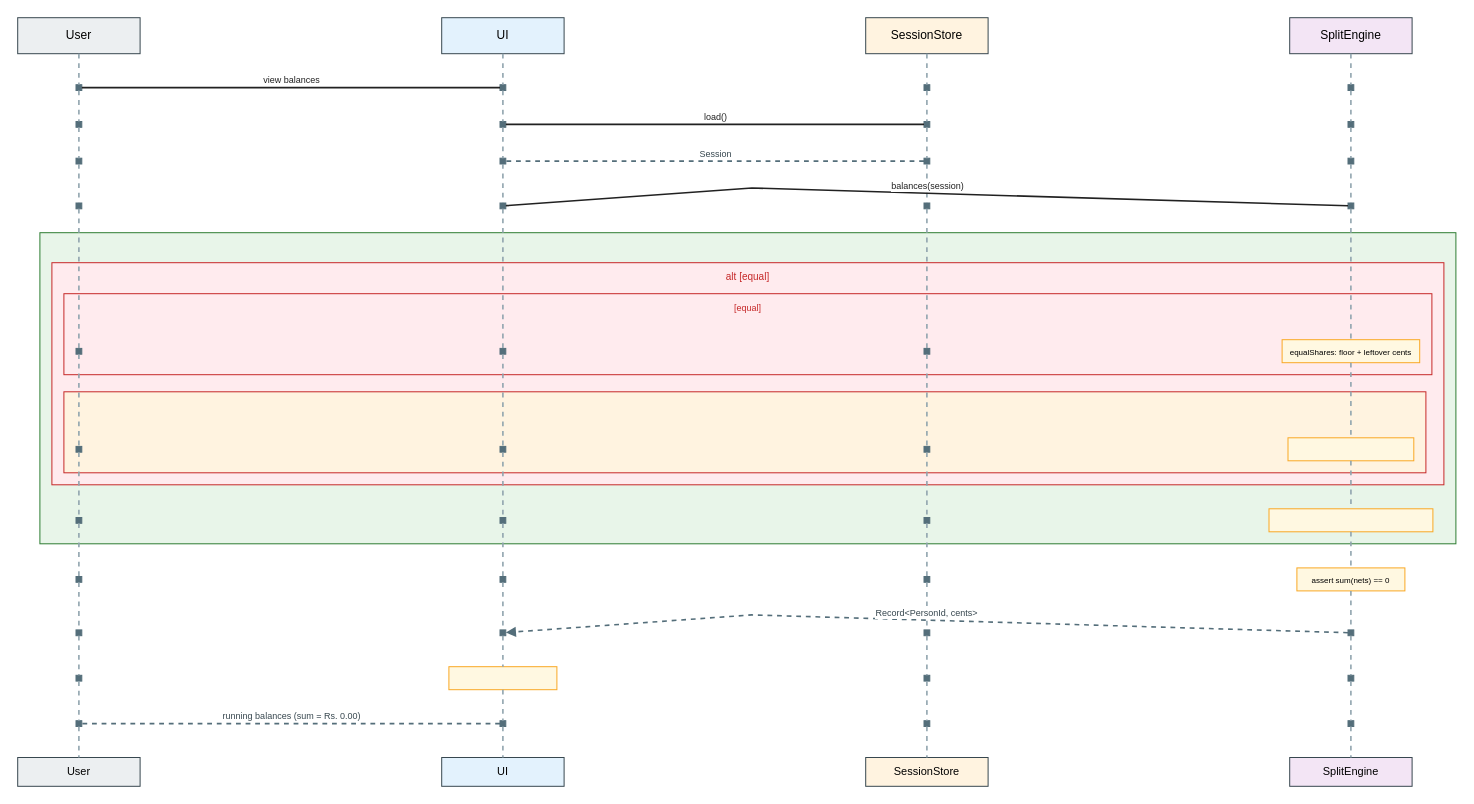
The diagram is 1474 pixels wide and 804 high, and some of its shapes have lost their labels. Here are the shapes that lost their labels. From the top down, the box of each, then its label:
(39, 232, 1456, 544): loop [each expense]
(63, 391, 1426, 473): [else]
(1287, 437, 1414, 461): exactShares: must sum to total
(1268, 508, 1433, 532): net[paidBy] += amount\nnet[p] -= share[p]
(448, 666, 557, 690): formatLkr(cents)
